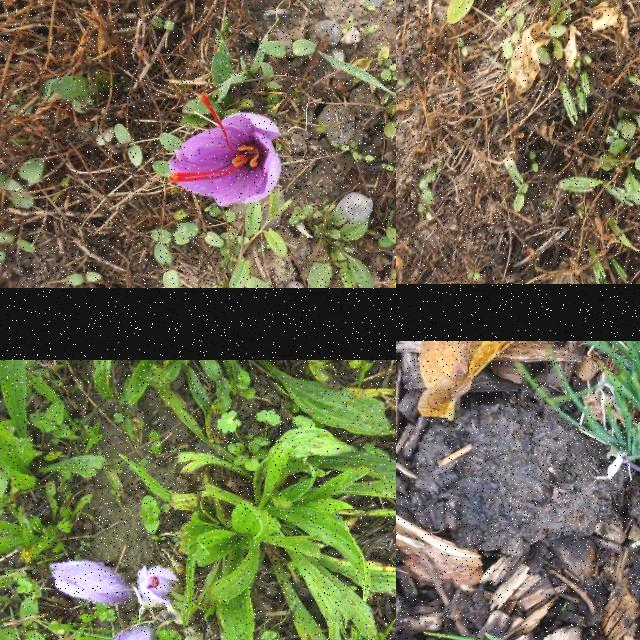flower: (168, 92, 284, 208), (51, 562, 131, 604), (136, 566, 180, 608), (110, 627, 157, 640)
